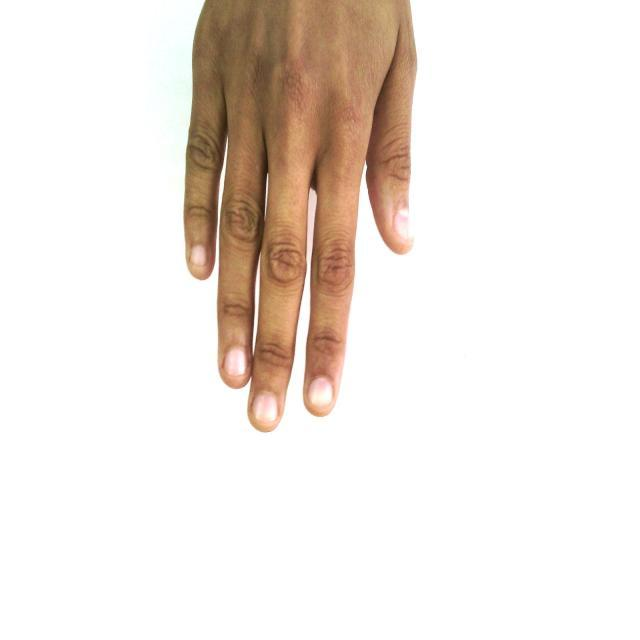Fingernail: (310, 377, 332, 407), (255, 393, 277, 421), (225, 349, 245, 377), (395, 209, 412, 240), (191, 245, 206, 269)
